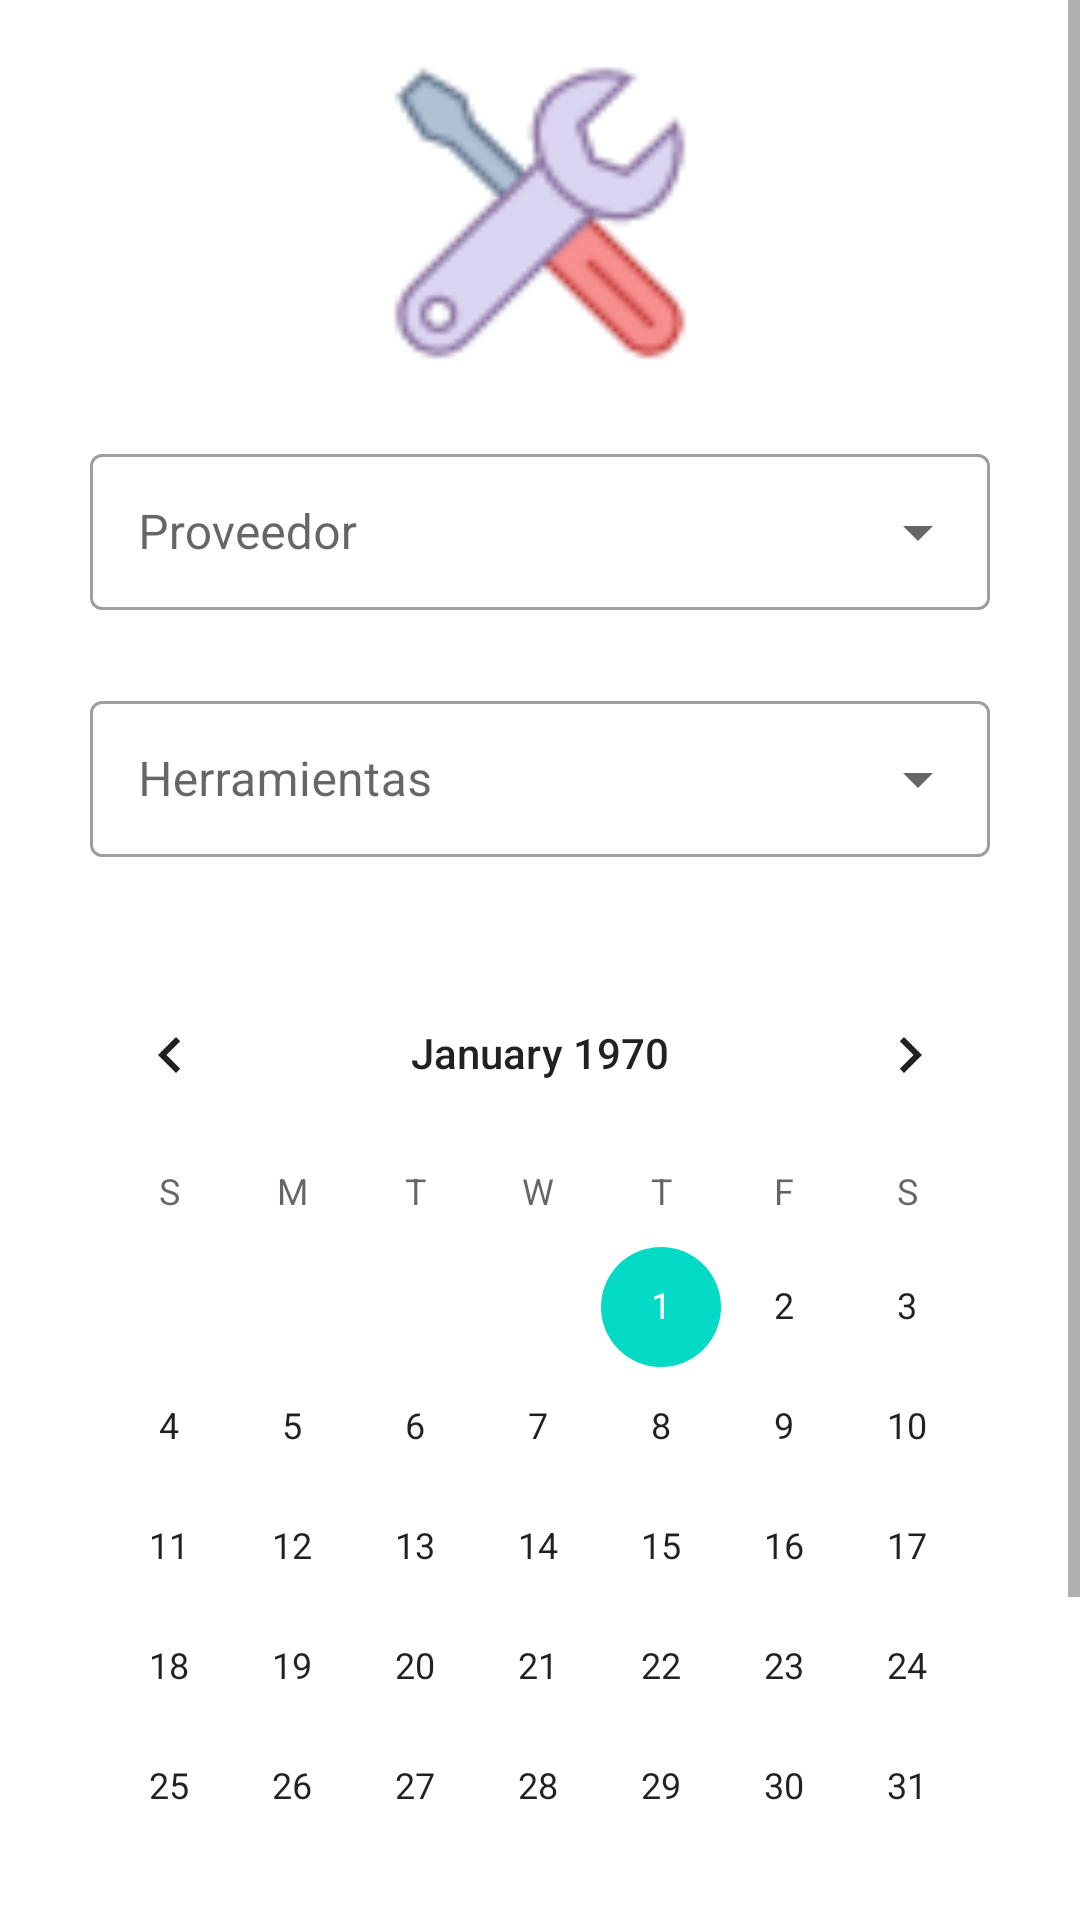

Icons on this 1080*1920 Android screen, each with the point to tap as (x=x, y=y):
repair: (x=540, y=213)
